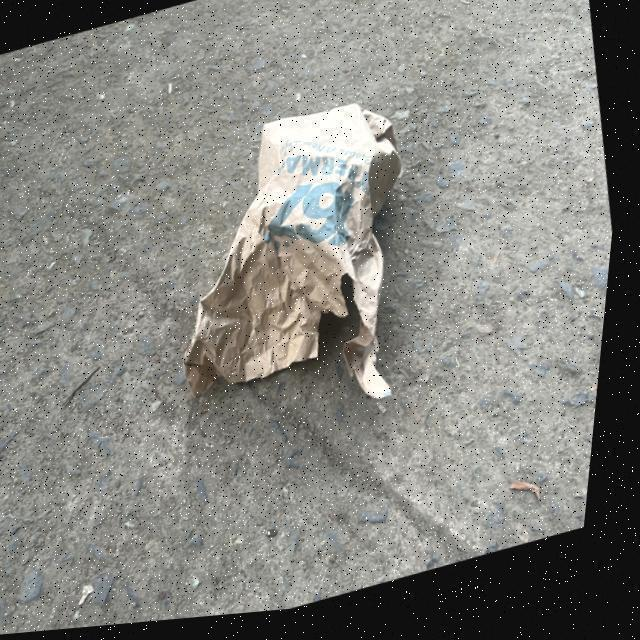Paper_Bag: (143, 87, 458, 464)
